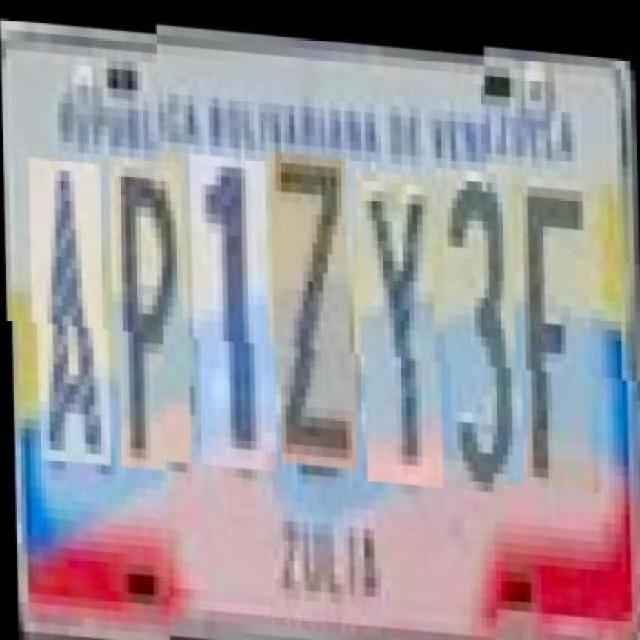1: (194, 150, 275, 467)
3: (446, 160, 522, 485)
a: (33, 148, 109, 454)
f: (520, 165, 598, 490)
p: (113, 144, 189, 461)
y: (360, 163, 442, 479)
z: (275, 146, 356, 463)
